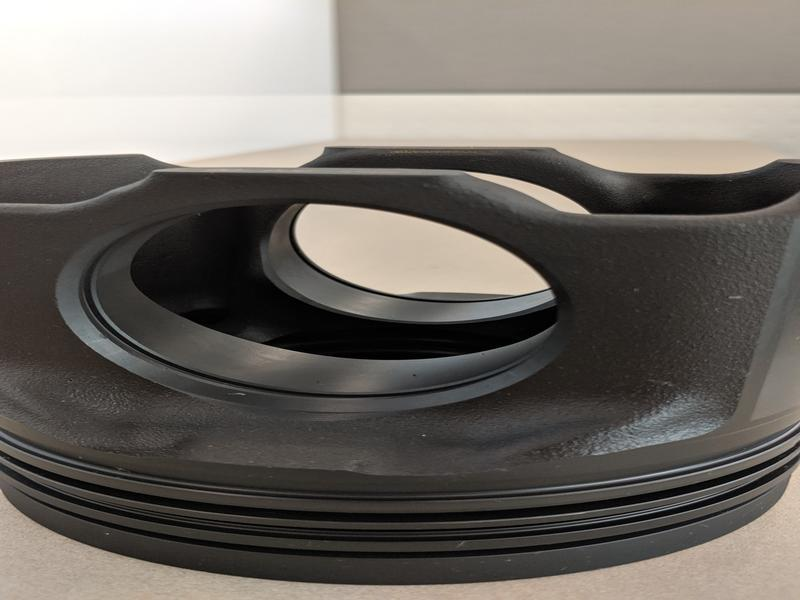piston: (2, 147, 799, 589)
